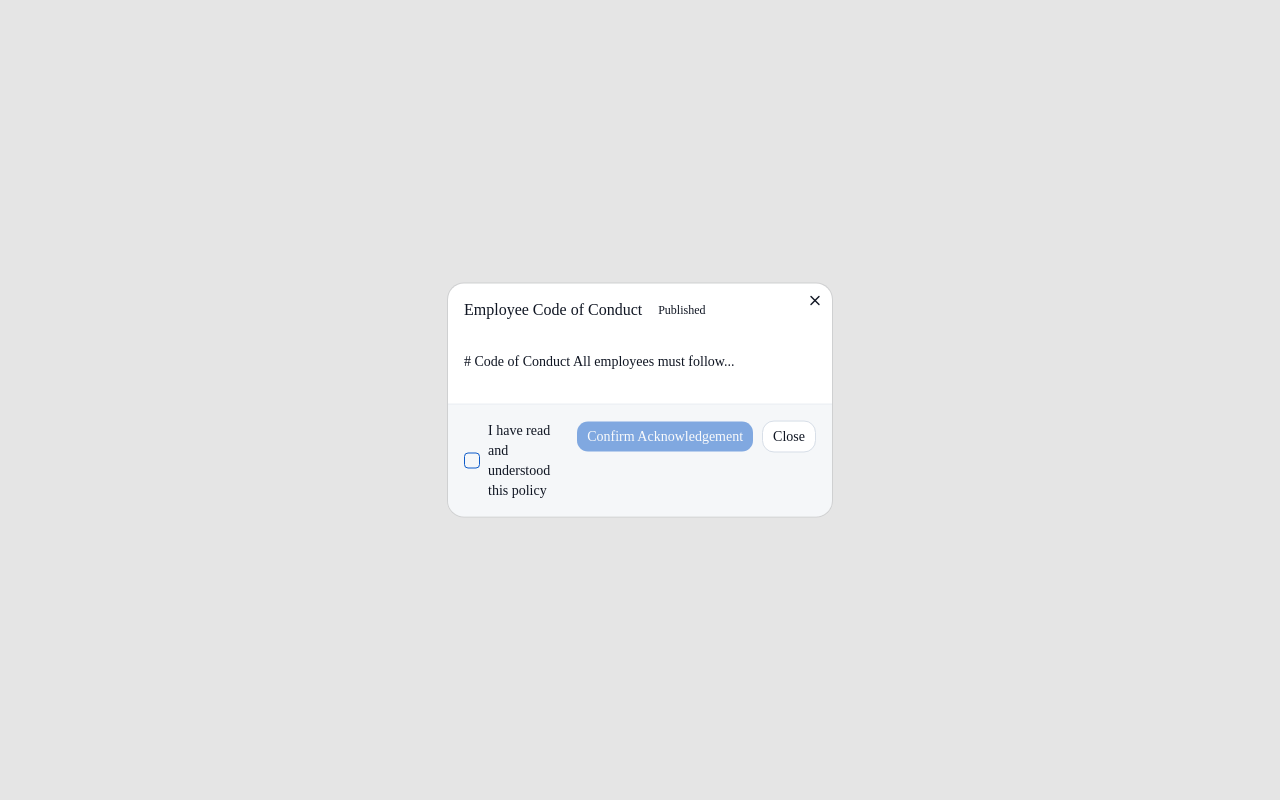
Scenario: AcknowledgeModal › confirm button is disabled until checkbox is checked
The image size is (1280, 800).
Check: the button "Confirm Acknowledgement" is disabled, box left=576, top=420, right=754, bottom=452
Click the checkbox named "i have read and understood this policy": (472, 460) left=464, top=452, right=480, bottom=468
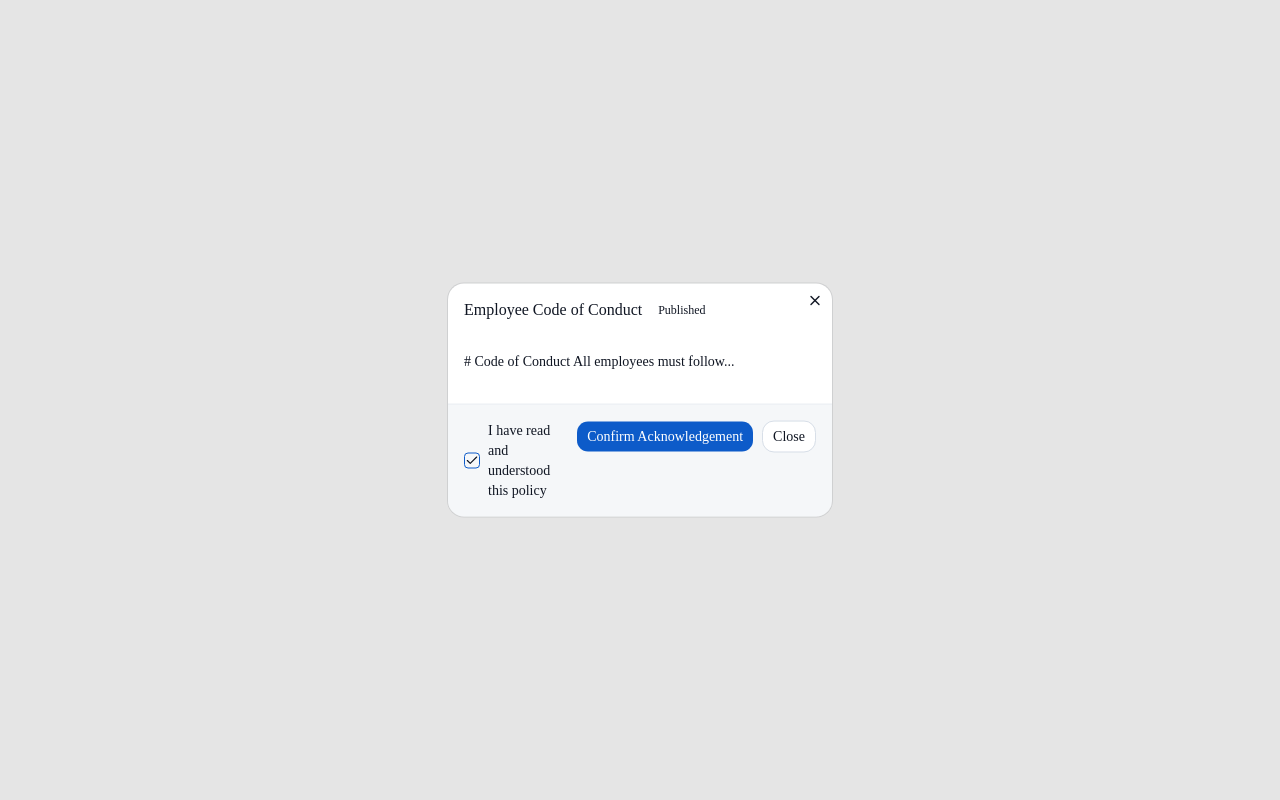
Check: the button "Confirm Acknowledgement" is enabled, box left=576, top=420, right=754, bottom=452
